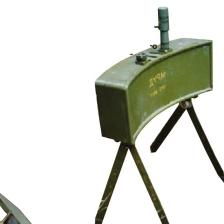MOH-50: (85, 29, 224, 153)
